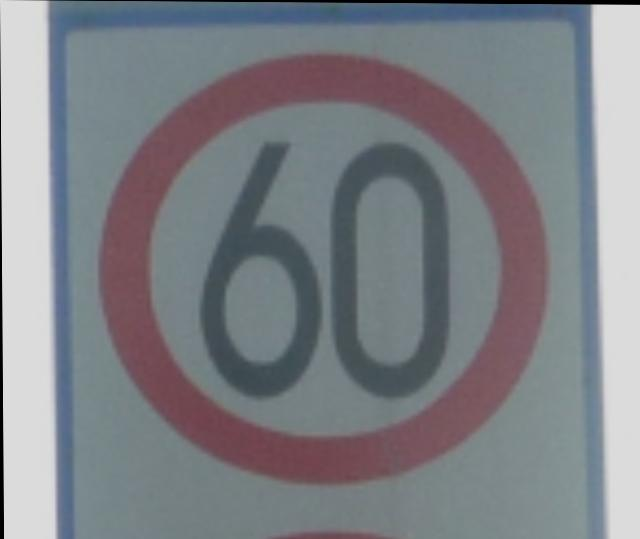limit60: (95, 41, 556, 489)
